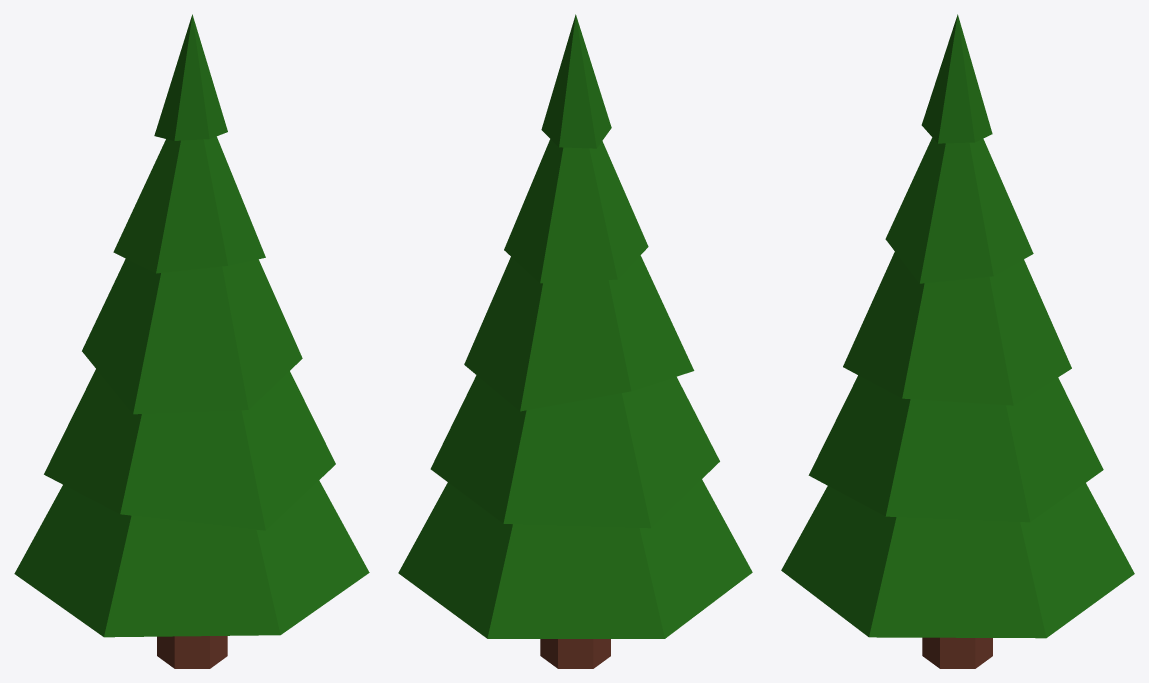
The model's file is PineS.glb.
The picture shows the model from 3 angles, left to right: view 1: azimuth 30°, elevation 25°; view 2: azimuth 150°, elevation 25°; view 3: azimuth 270°, elevation 25°; orthographic projection.
Visible parts, largest first — view 1: Cylinder.005, Cylinder.004; view 2: Cylinder.005, Cylinder.004; view 3: Cylinder.005, Cylinder.004.
Boxes of the visible parts, x1,y1,x2,y2 form: Cylinder.005: [14, 14, 369, 637]; Cylinder.004: [157, 636, 227, 668]; Cylinder.005: [398, 14, 752, 638]; Cylinder.004: [540, 639, 610, 668]; Cylinder.005: [781, 14, 1134, 638]; Cylinder.004: [922, 637, 992, 668].
Bounding box in the file's own units: 2.16 × 4.97 × 2.48.
